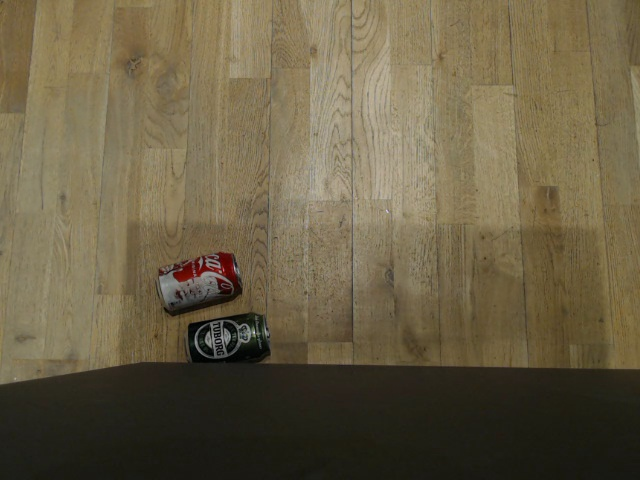beer: (183, 312, 272, 364)
cola: (152, 247, 245, 314)
